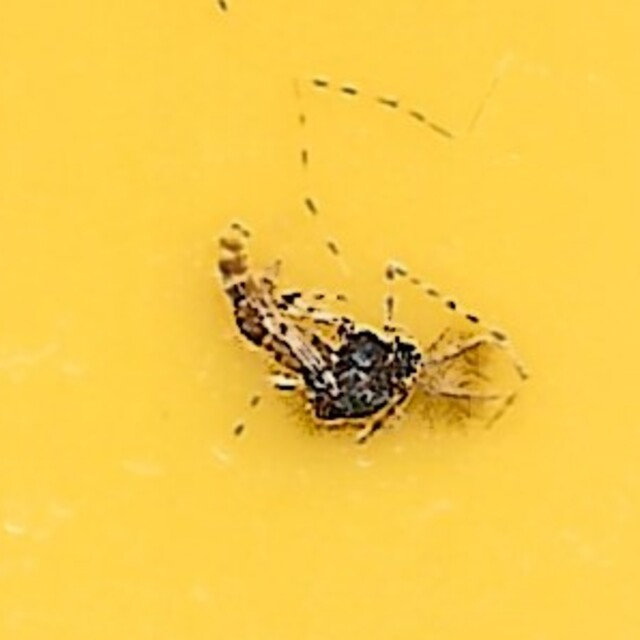Nematocera: (215, 215, 425, 425)
